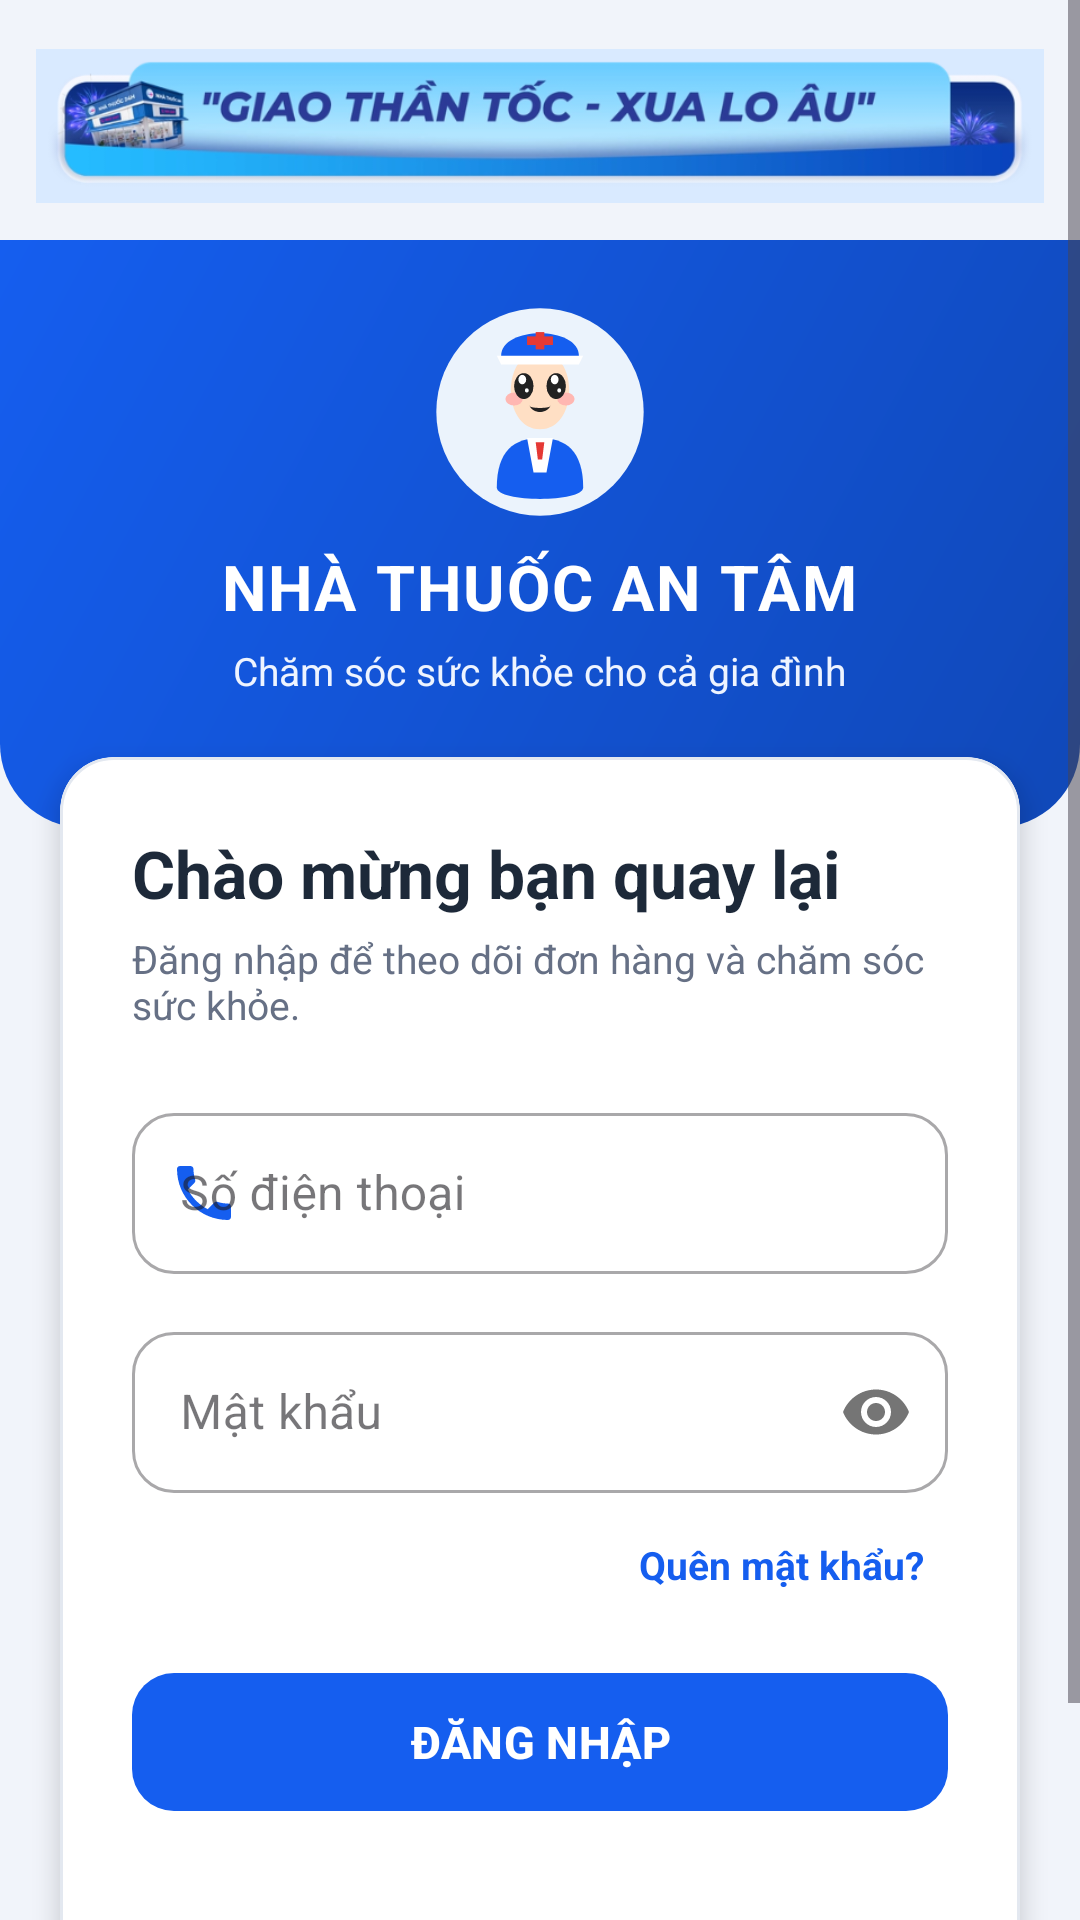

Icons on this 1080 × 1920 Android screen, each with its box as (x1, y1, x2, y2):
Biểu tượng nhà thuốc: (436, 308, 644, 516)
